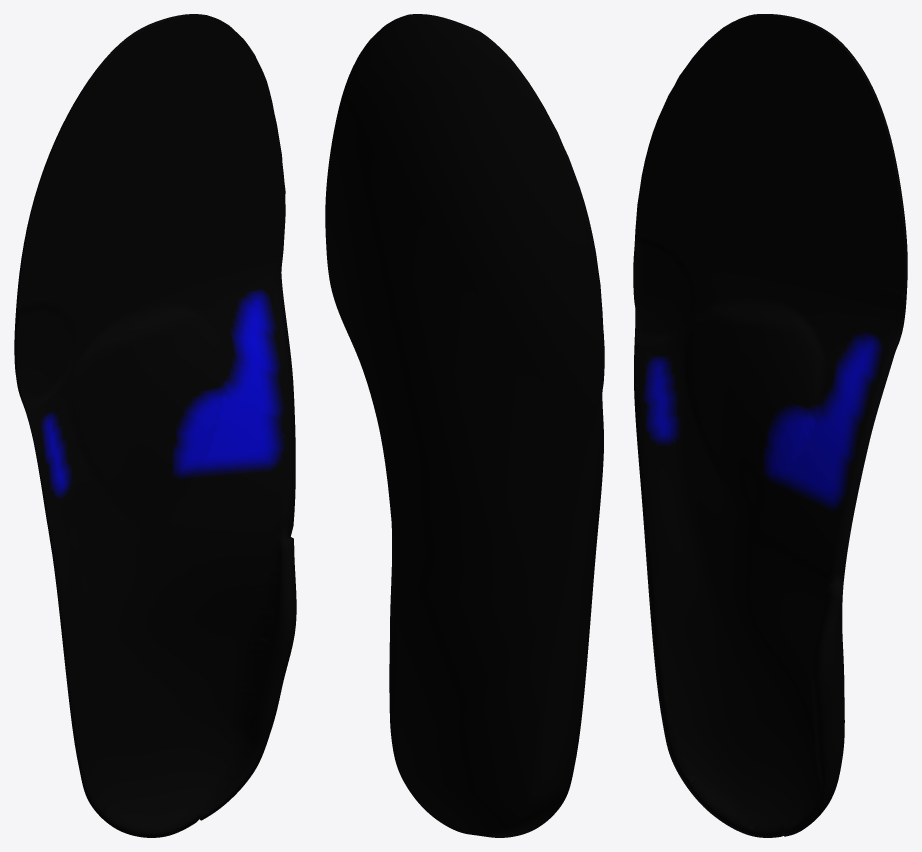
Rendered from CPO-307064_LEFT.glb.
The picture shows the model from 3 angles, left to right: view 1: azimuth 30°, elevation 25°; view 2: azimuth 150°, elevation 25°; view 3: azimuth 330°, elevation 25°; orthographic projection. The views are drawn at different scales.
Parts seen in each view (by area): view 1: geometry_0; view 2: geometry_0; view 3: geometry_0.
Boxes of the visible parts, left/top/right/bottom form: geometry_0: left=14, top=14, right=296, bottom=837; geometry_0: left=325, top=14, right=604, bottom=837; geometry_0: left=633, top=14, right=907, bottom=837.
Size of the model in its own units: 112 by 317 by 34.1.
